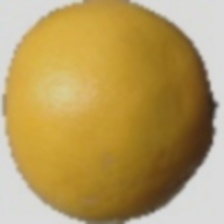grapes: (16, 21, 196, 203)
